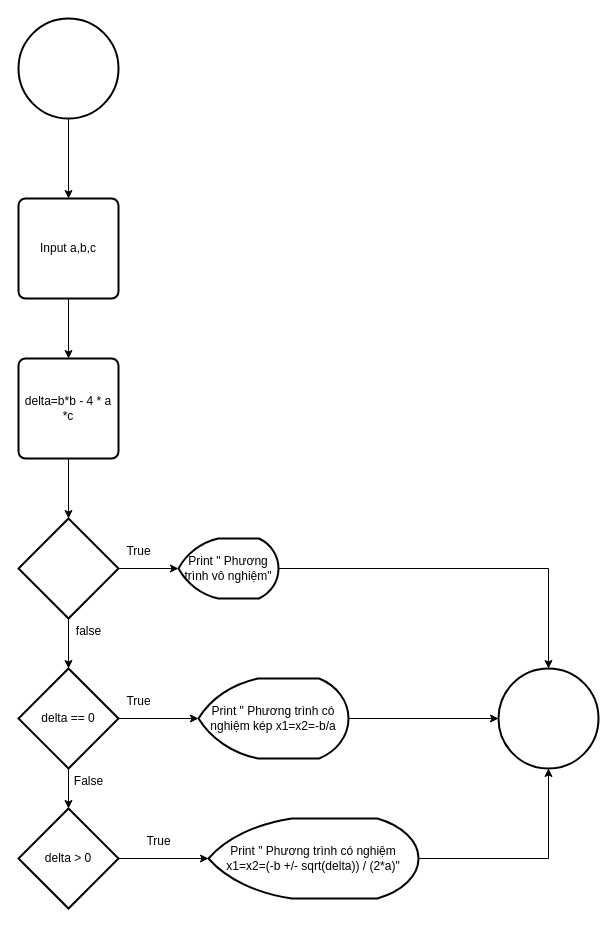
Some shapes in this 616 by 926 pixel diagram are drawn without their labels. Each missing label, with the box of its shape:
delta < 0: (17, 517, 119, 619)
END: (497, 667, 599, 769)
START: (17, 17, 119, 119)
